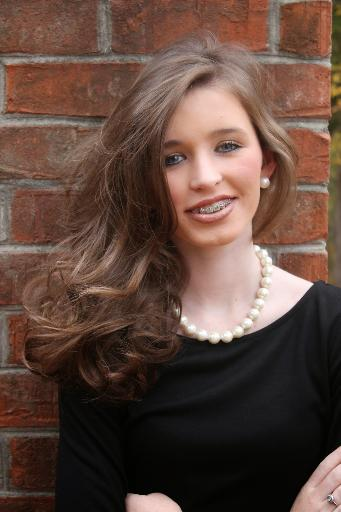left_eye: (214, 141, 245, 157)
left_lip_corner: (232, 194, 241, 206)
right_eye: (165, 153, 189, 171)
right_lip_corner: (184, 206, 192, 219)
